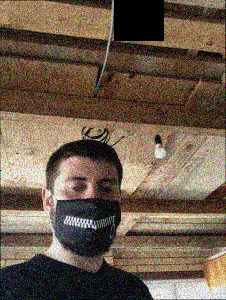with_mask: (54, 170, 121, 251)
